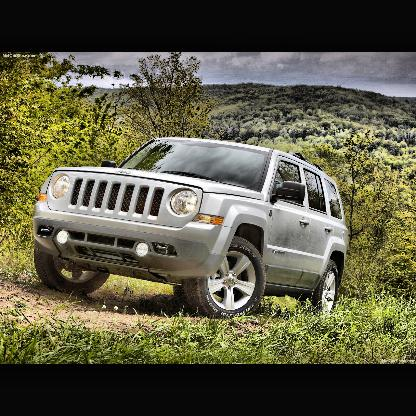Jeep Patriot SUV 2012: (31, 136, 352, 320)
